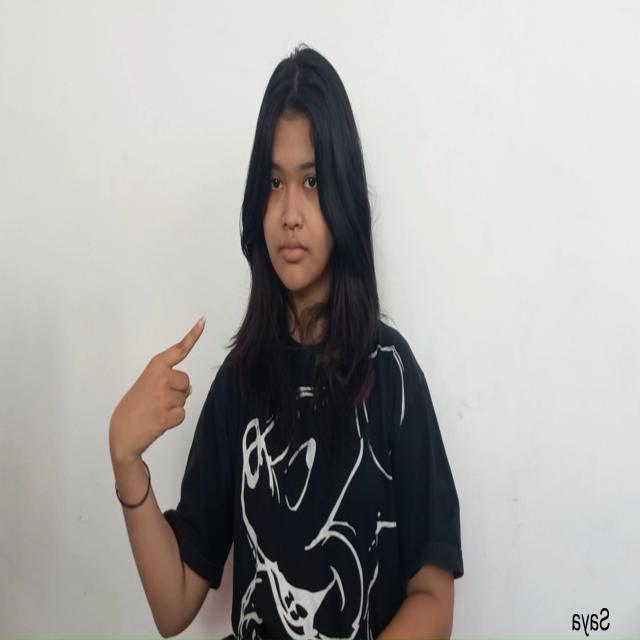Saya -BISINDO-: (107, 310, 208, 486)
